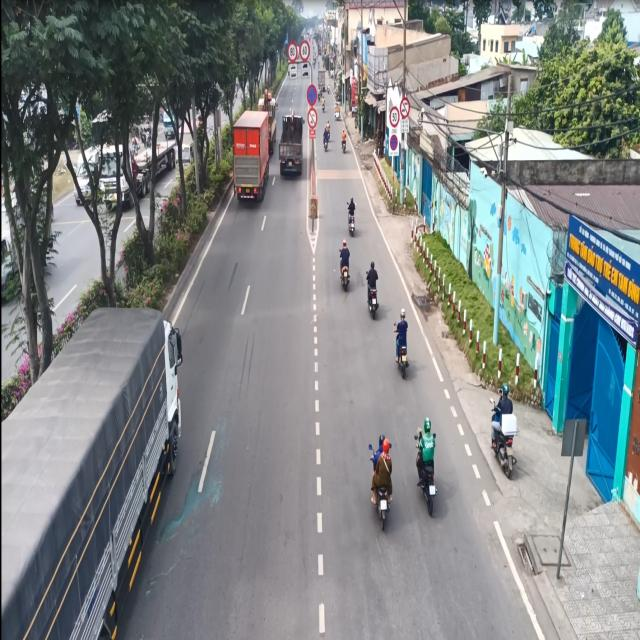motor: (364, 430, 397, 533), (492, 374, 518, 490), (412, 416, 440, 522), (392, 303, 410, 376), (361, 260, 380, 320), (335, 240, 353, 291), (343, 193, 361, 240)
truck: (0, 299, 189, 640), (233, 101, 271, 209), (276, 107, 306, 181)
